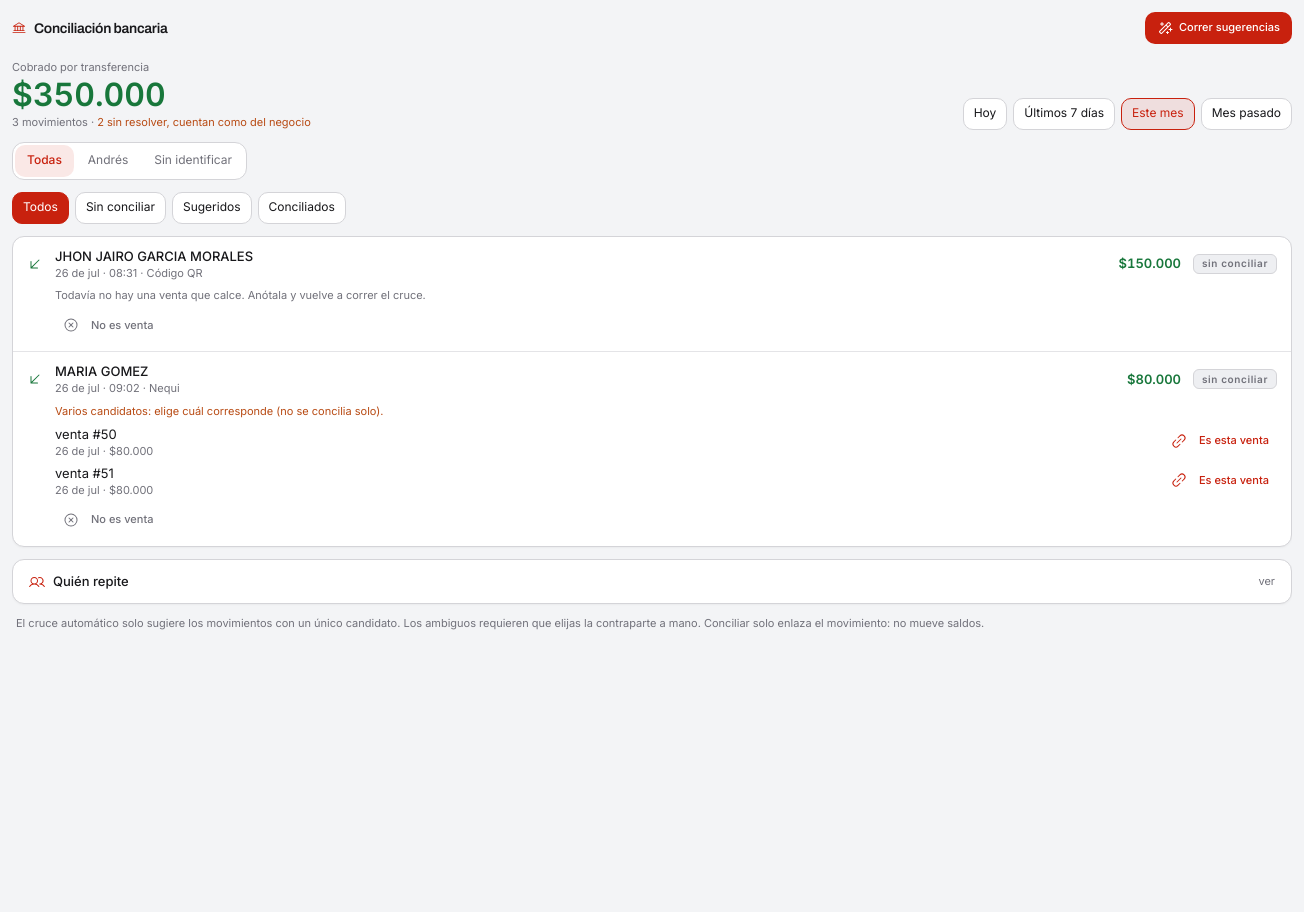
Test case: TabConciliacion — match de mixtas y fiados › elegir una cuenta acota la cifra y vuelve a pedir la lista filtrada
Expected: the text "$350.000" is shown, [12, 75, 166, 114]
Step 1. Click the tab "Andrés" → (108, 161), box [76, 145, 140, 177]
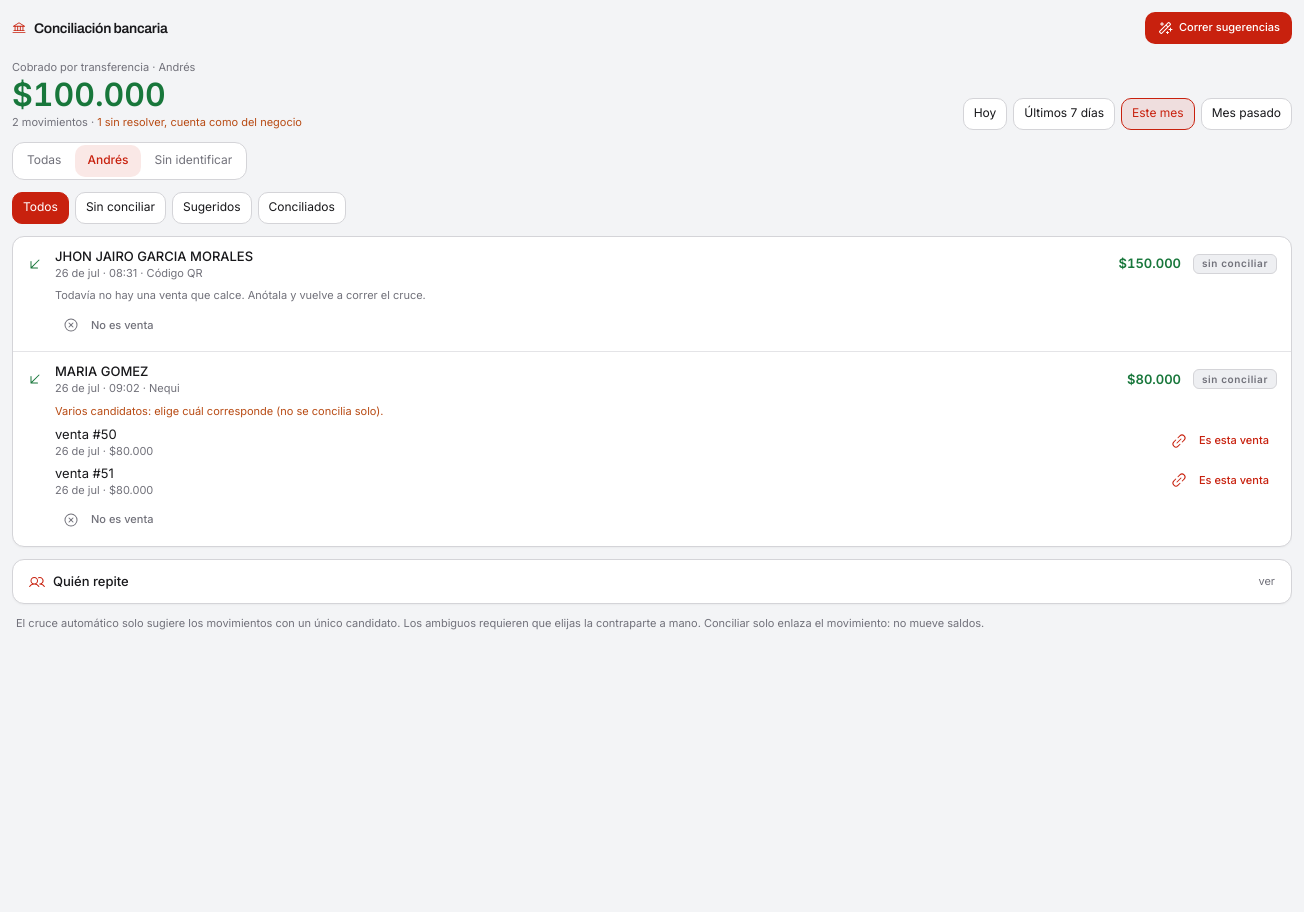
Result: the text "$100.000" is shown at [12, 75, 166, 114]
Result: the text "Cobrado por transferencia · Andrés" is shown at [12, 60, 195, 74]
Result: the text "1 sin resolver, cuenta como del negocio" is shown at [97, 115, 302, 129]
